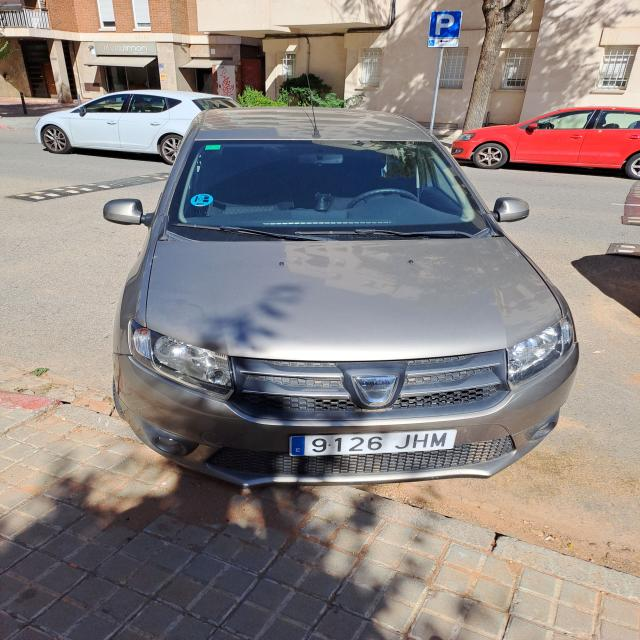license_plate-34Td: (290, 429, 457, 456)
